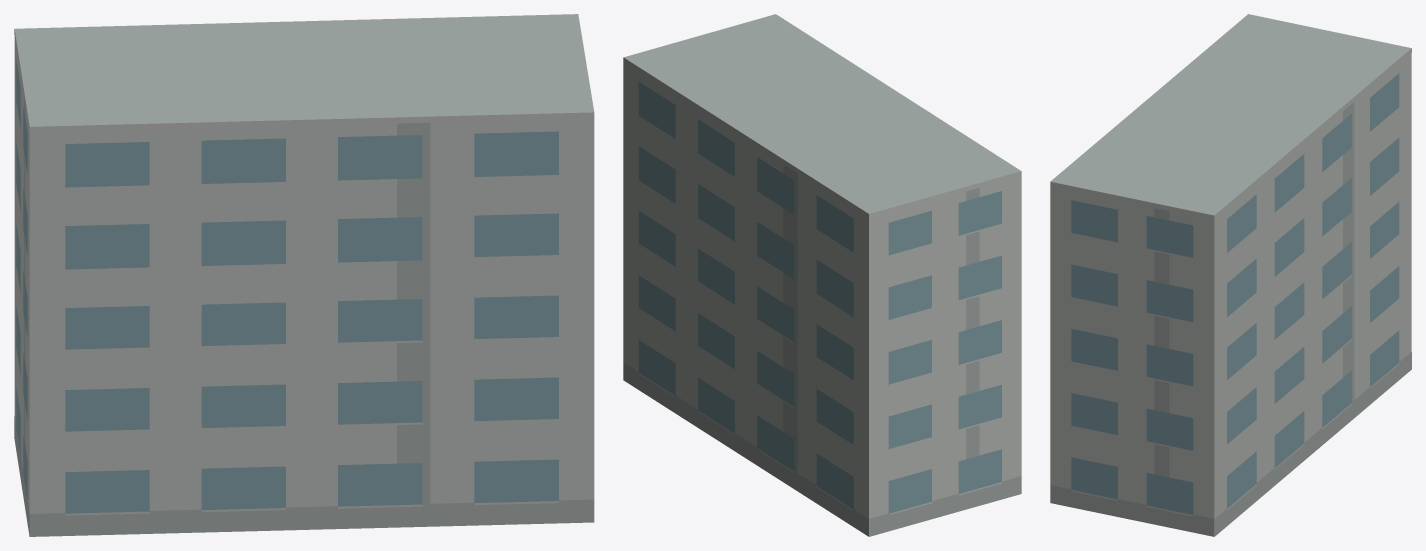
Rendered from survey-upis-32965027.glb.
3 renders of one model, left to right at view 1: azimuth 30°, elevation 25°; view 2: azimuth 150°, elevation 25°; view 3: azimuth 270°, elevation 25°, orthographic. The views are drawn at different scales.
Parts seen in each view (by area): view 1: survey-upis-32965027.tmp; view 2: survey-upis-32965027.tmp; view 3: survey-upis-32965027.tmp.
Part boxes in pixels (x1,y1,x2,y2): survey-upis-32965027.tmp: [14, 14, 594, 536]; survey-upis-32965027.tmp: [623, 14, 1021, 536]; survey-upis-32965027.tmp: [1050, 14, 1411, 536].
Bounding box in the file's own units: 22.07 × 16.4 × 16.73.
